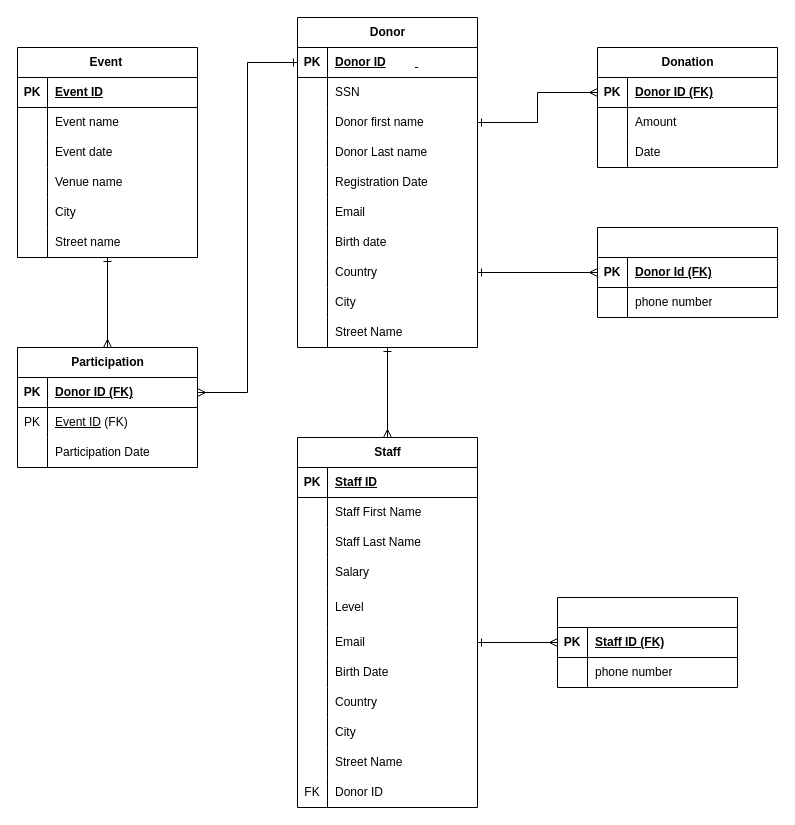
The diagram is 795 pixels wide and 825 high, and some of its shapes have lost their labels. The box of each missing label's shape, as (x1, y1, x2, y2) in pixels:
Donors Phone: (596, 226, 778, 318)
Staff phone: (556, 596, 738, 688)
